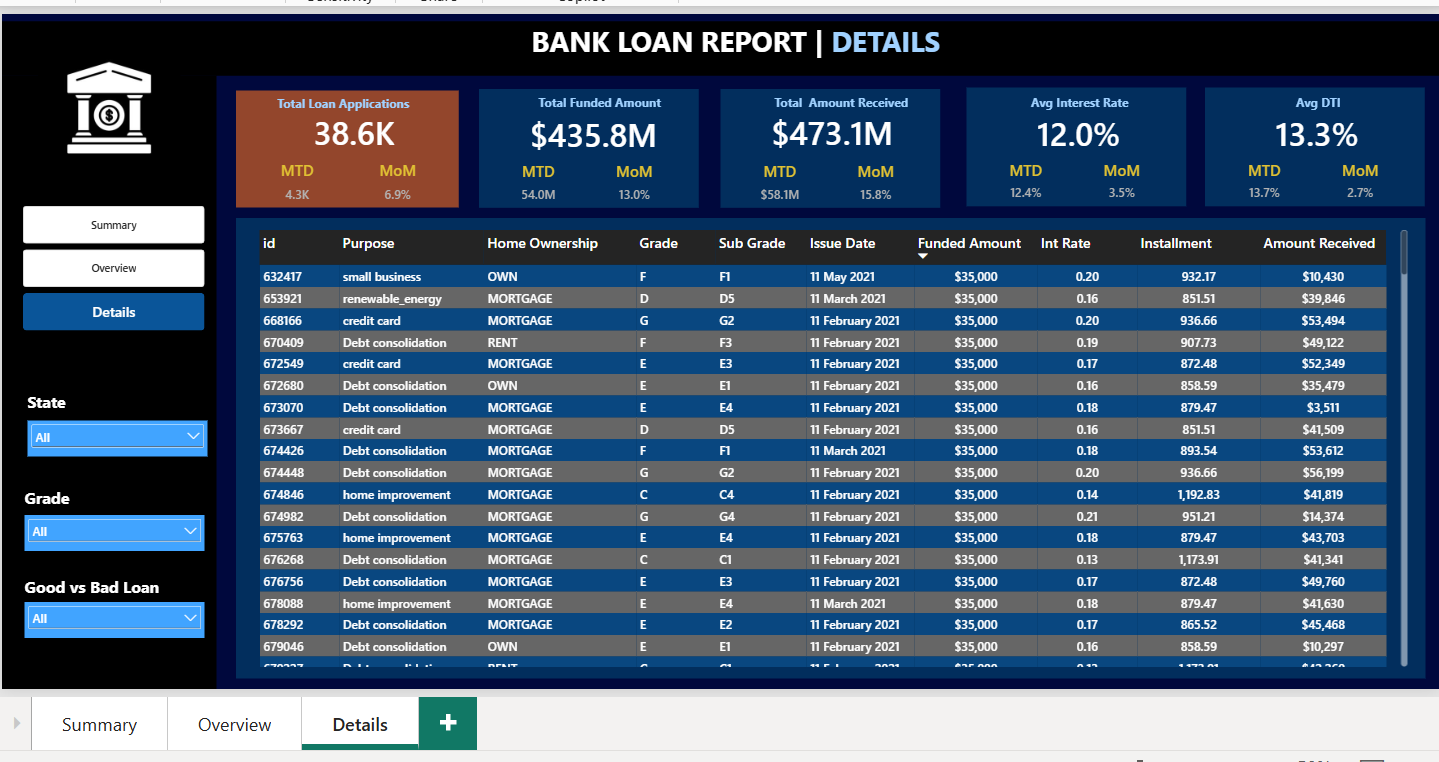

What the dashboard file says about the page in this screenshot:
{"tool":"powerbi","page":{"name":"Details","canvas":[1915,900],"ordinal":2},"visuals":[{"type":"shape","box":[0,10,1920,72],"z":0},{"type":"shape","box":[1286,98,293,158.4],"z":0,"group":"g5"},{"type":"shape","box":[1604,98,293,158.4],"z":0,"group":"g6"},{"type":"shape","box":[636.9,100,293,158.4],"z":0,"group":"g3"},{"type":"shape","box":[958,100,293,158.4],"z":0,"group":"g4"},{"type":"group","id":"g1","title":"Group 2","box":[300,102,310,174],"z":0,"group":"g2"},{"type":"shape","box":[312,102,297,156],"z":0,"group":"g1"},{"type":"cardVisual","fields":{"Data":["bank_loan_data.Total Amount Received"]},"box":[1010,128,236,56],"z":1000,"group":"g4"},{"type":"cardVisual","fields":{"Data":["bank_loan_data.Total Loan Application"]},"box":[378,132,183.1,50],"z":1000,"group":"g1"},{"type":"cardVisual","fields":{"Data":["bank_loan_data.Avg Interest Rate"]},"box":[1364,134,207.1,47.8],"z":1000,"group":"g5"},{"type":"cardVisual","fields":{"Data":["bank_loan_data.Avg DTI"]},"box":[1682,134,207.1,47.8],"z":1000,"group":"g6"},{"type":"cardVisual","fields":{"Data":["bank_loan_data.Total Funded Amount"]},"box":[688,136,207.1,47.8],"z":1000,"group":"g3"},{"type":"shape","box":[312,272,1586,614],"z":1000},{"type":"shape","box":[0,10,1920,72],"z":2000},{"type":"textbox","box":[300,108,310,32],"z":2000,"group":"g1"},{"type":"card","title":"MTD","fields":{"Values":["bank_loan_data.MTD Avg Interest Rate"]},"box":[1293.1,180,142.4,91.8],"z":2000,"group":"g5"},{"type":"card","title":"MTD","fields":{"Values":["bank_loan_data.MTD Avg DTI"]},"box":[1611.1,180,142.4,91.8],"z":2000,"group":"g6"},{"type":"card","title":"MTD","fields":{"Values":["bank_loan_data.MTD Funded Amount"]},"box":[644,182,142.4,91.8],"z":2000,"group":"g3"},{"type":"card","title":"MTD","fields":{"Values":["bank_loan_data.MTD Total Amount Received"]},"box":[965.1,182,142.4,91.8],"z":2000,"group":"g4"},{"type":"shape","box":[0,82,286,818],"z":3000},{"type":"card","title":"MTD","fields":{"Values":["bank_loan_data.MTD Loan Applications"]},"box":[312,180,163.3,96],"z":3000,"group":"g1"},{"type":"card","title":"MoM","fields":{"Values":["bank_loan_data.MoM Avg Int Rate"]},"box":[1421.1,180,142.4,91.8],"z":3000,"group":"g5"},{"type":"card","title":"MoM","fields":{"Values":["bank_loan_data.MoM Avg DTI"]},"box":[1739.1,180,142.4,91.8],"z":3000,"group":"g6"},{"type":"card","title":"MoM","fields":{"Values":["bank_loan_data.MoM Funded Amount"]},"box":[772,182,142.4,91.8],"z":3000,"group":"g3"},{"type":"card","title":"MoM","fields":{"Values":["bank_loan_data.MoM Total Amount Received"]},"box":[1093.1,182,142.4,91.8],"z":3000,"group":"g4"},{"type":"textbox","box":[706,10,660,62],"z":4000},{"type":"textbox","box":[689,106,218,40],"z":4000,"group":"g3"},{"type":"textbox","box":[1010.1,106,218,40],"z":4000,"group":"g4"},{"type":"textbox","box":[1318,106,238,38],"z":4000,"group":"g5"},{"type":"textbox","box":[1636,106,238,38],"z":4000,"group":"g6"},{"type":"card","title":"MoM","fields":{"Values":["bank_loan_data.MoM Loan Applications"]},"box":[445.6,180,163.3,96],"z":4000,"group":"g1"},{"type":"group","id":"g2","title":"Group 1","box":[300,102,310,174],"z":5000},{"type":"group","id":"g3","title":"Group 3","box":[636.9,100,293,173.8],"z":6000},{"type":"group","id":"g4","title":"Group 3","box":[958,100,294,174],"z":7000},{"type":"group","id":"g5","title":"Group 3","box":[1286,98,293,173.8],"z":8000},{"type":"group","id":"g6","title":"Group 3","box":[1604,98,294,174],"z":9000},{"type":"slicer","fields":{"Values":["bank_loan_data.address_state"]},"box":[33.3,541.3,240,48],"z":10000},{"type":"textbox","box":[33.3,501.3,154,40],"z":11000},{"type":"slicer","fields":{"Values":["bank_loan_data.grade"]},"box":[30.7,668,240,48],"z":12000},{"type":"textbox","box":[30.7,630,168,38],"z":13000},{"type":"slicer","fields":{"Values":["bank_loan_data.purpose"]},"box":[29.3,784.7,240,48],"z":14000},{"type":"textbox","box":[29.3,748,202,36],"z":15000},{"type":"tableEx","fields":{"Values":["bank_loan_data.id","bank_loan_data.purpose","bank_loan_data.home_ownership","bank_loan_data.grade","bank_loan_data.sub_grade","bank_loan_data.issue_date","bank_loan_data.Total Funded Amount","Sum(bank_loan_data.int_rate)","Sum(bank_loan_data.installment)","bank_loan_data.Total Amount Received"]},"box":[326,274,1564,612],"z":18000},{"type":"pageNavigator","box":[28,256,242,168],"z":18001},{"type":"image","box":[46,30,194,190],"z":18002}]}

Visuals, with their boxes on the page's 1915x900 design canvas (x1, y1, x2, y2). These are canvas units, not pixel positions in the 1439x762 screenshot, which may show the page scaled, cropped or inside an application window:
shape: bbox=(0, 10, 1920, 82)
shape: bbox=(1286, 98, 1579, 256)
shape: bbox=(1604, 98, 1897, 256)
shape: bbox=(637, 100, 930, 258)
shape: bbox=(958, 100, 1251, 258)
"Group 2" group: bbox=(300, 102, 610, 276)
shape: bbox=(312, 102, 609, 258)
cardVisual - bank_loan_data.Total Amount Received: bbox=(1010, 128, 1246, 184)
cardVisual - bank_loan_data.Total Loan Application: bbox=(378, 132, 561, 182)
cardVisual - bank_loan_data.Avg Interest Rate: bbox=(1364, 134, 1571, 182)
cardVisual - bank_loan_data.Avg DTI: bbox=(1682, 134, 1889, 182)
cardVisual - bank_loan_data.Total Funded Amount: bbox=(688, 136, 895, 184)
shape: bbox=(312, 272, 1898, 886)
shape: bbox=(0, 10, 1920, 82)
textbox: bbox=(300, 108, 610, 140)
"MTD" card: bbox=(1293, 180, 1436, 272)
"MTD" card: bbox=(1611, 180, 1754, 272)
"MTD" card: bbox=(644, 182, 786, 274)
"MTD" card: bbox=(965, 182, 1108, 274)
shape: bbox=(0, 82, 286, 900)
"MTD" card: bbox=(312, 180, 475, 276)
"MoM" card: bbox=(1421, 180, 1564, 272)
"MoM" card: bbox=(1739, 180, 1882, 272)
"MoM" card: bbox=(772, 182, 914, 274)
"MoM" card: bbox=(1093, 182, 1236, 274)
textbox: bbox=(706, 10, 1366, 72)
textbox: bbox=(689, 106, 907, 146)
textbox: bbox=(1010, 106, 1228, 146)
textbox: bbox=(1318, 106, 1556, 144)
textbox: bbox=(1636, 106, 1874, 144)
"MoM" card: bbox=(446, 180, 609, 276)
"Group 1" group: bbox=(300, 102, 610, 276)
"Group 3" group: bbox=(637, 100, 930, 274)
"Group 3" group: bbox=(958, 100, 1252, 274)
"Group 3" group: bbox=(1286, 98, 1579, 272)
"Group 3" group: bbox=(1604, 98, 1898, 272)
slicer - bank_loan_data.address_state: bbox=(33, 541, 273, 589)
textbox: bbox=(33, 501, 187, 541)
slicer - bank_loan_data.grade: bbox=(31, 668, 271, 716)
textbox: bbox=(31, 630, 199, 668)
slicer - bank_loan_data.purpose: bbox=(29, 785, 269, 833)
textbox: bbox=(29, 748, 231, 784)
tableEx - bank_loan_data.id x bank_loan_data.purpose: bbox=(326, 274, 1890, 886)
pageNavigator: bbox=(28, 256, 270, 424)
image: bbox=(46, 30, 240, 220)
